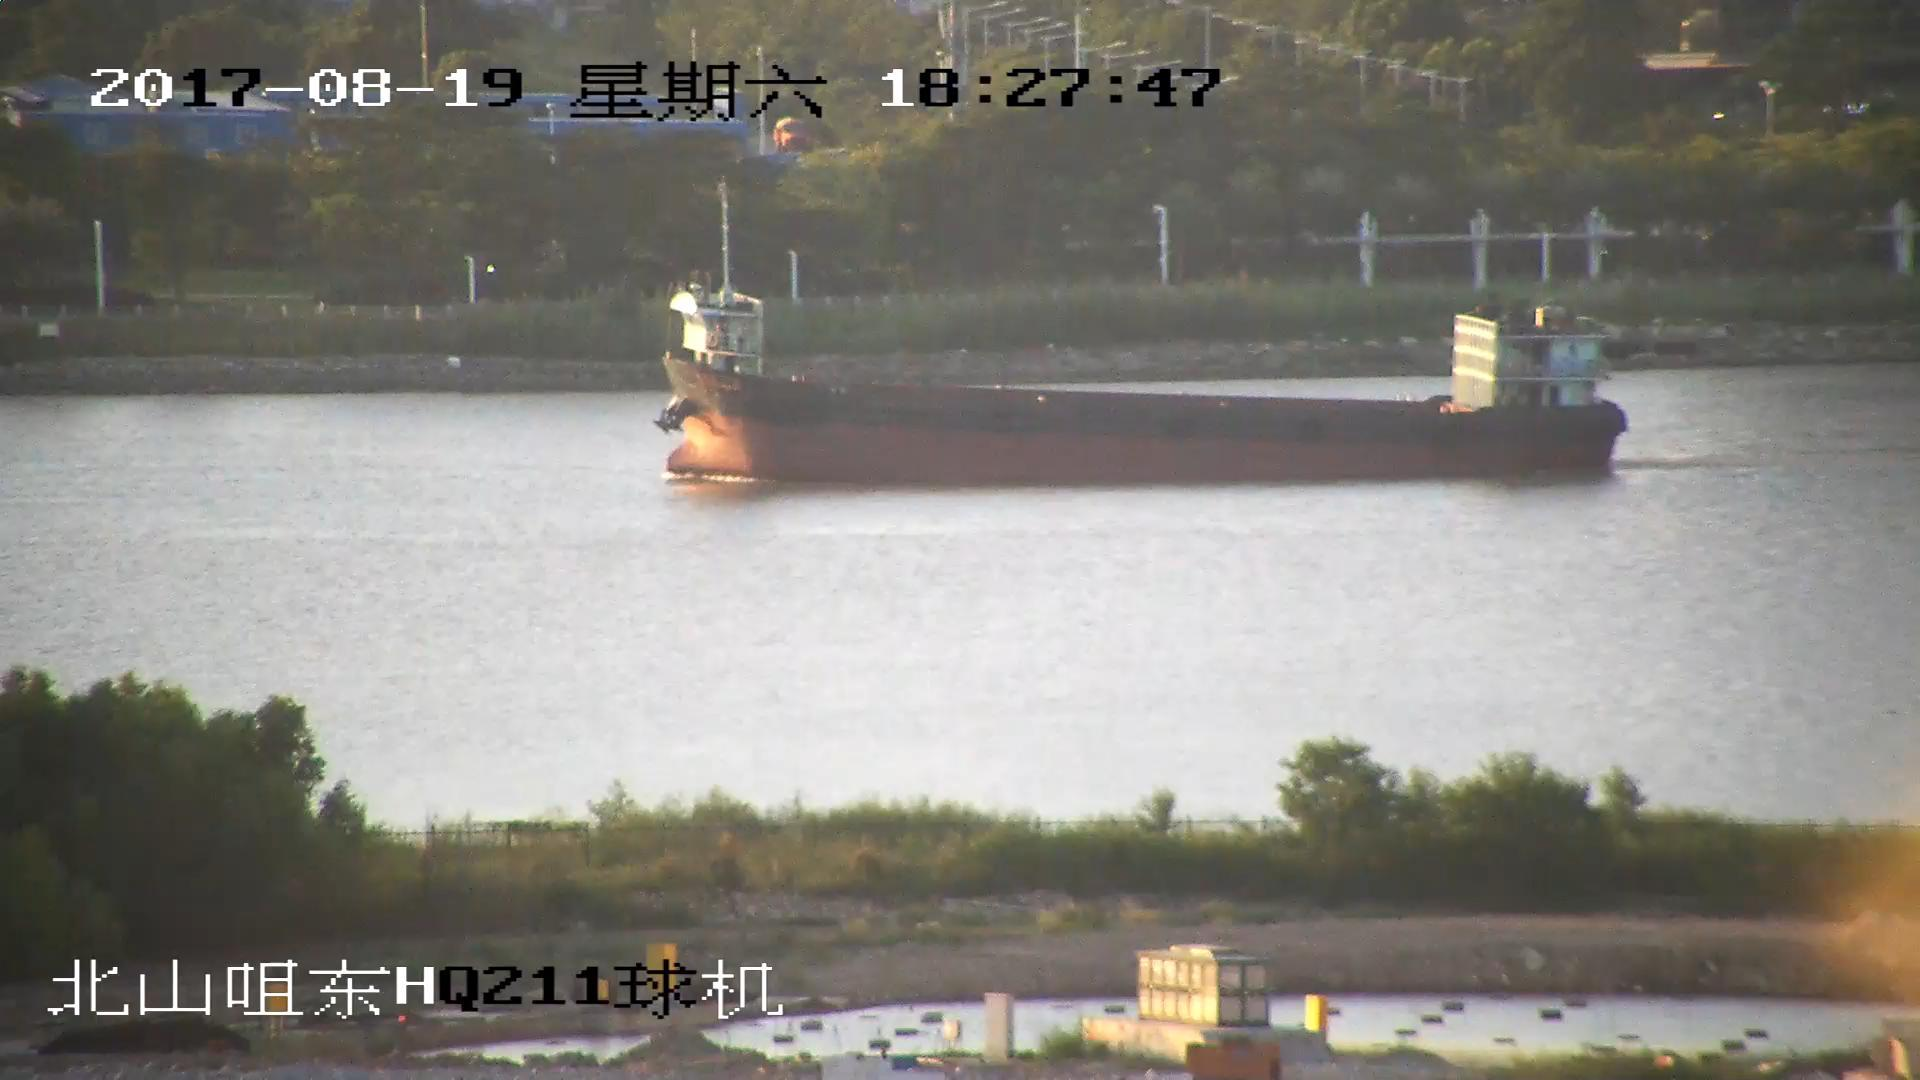Ship: (662, 282, 1615, 472)
